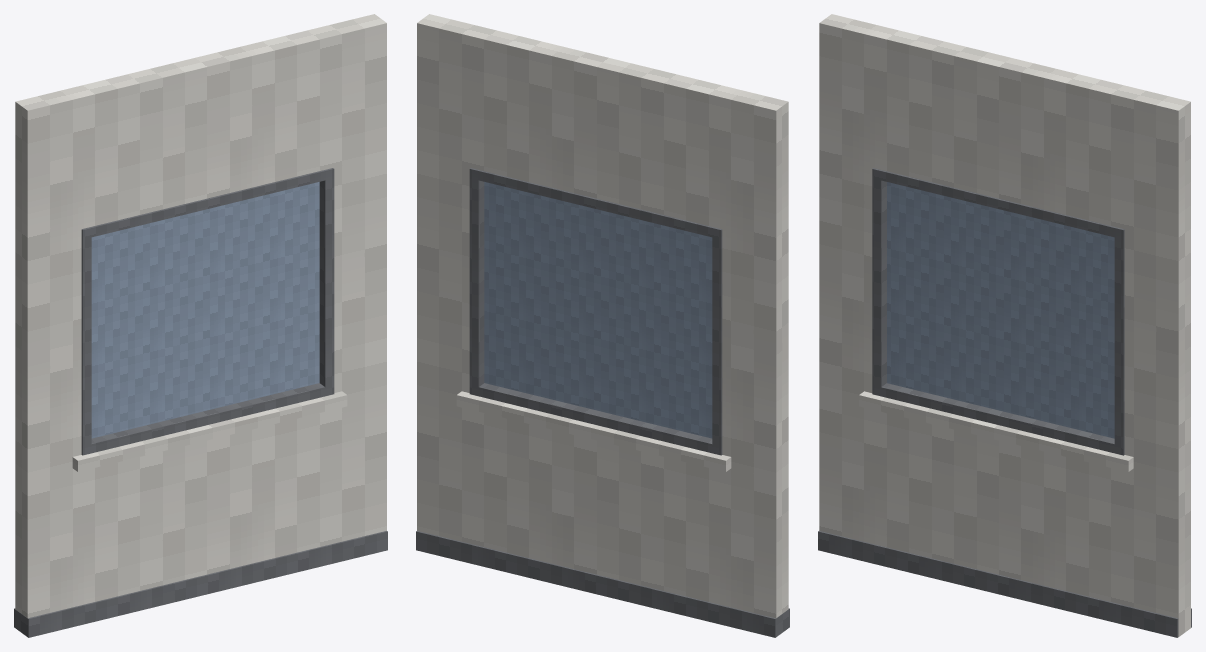
Rendered from pixel-modern-office-wall-bay-window-84074f90.glb.
3 views of the same model, side by side, from view 1: azimuth 30°, elevation 25°; view 2: azimuth 150°, elevation 25°; view 3: azimuth 330°, elevation 25° (orthographic).
Parts seen in each view (by area): view 1: wall-bay-window; view 2: wall-bay-window; view 3: wall-bay-window.
Boxes of the visible parts, x1,y1,x2,y2 form: wall-bay-window: (14,14,387,637); wall-bay-window: (416,14,789,637); wall-bay-window: (818,14,1191,637).
Bounding box in the file's own units: 2 × 2.8 × 0.2201.
Materials: 3 (3 with a texture image).
